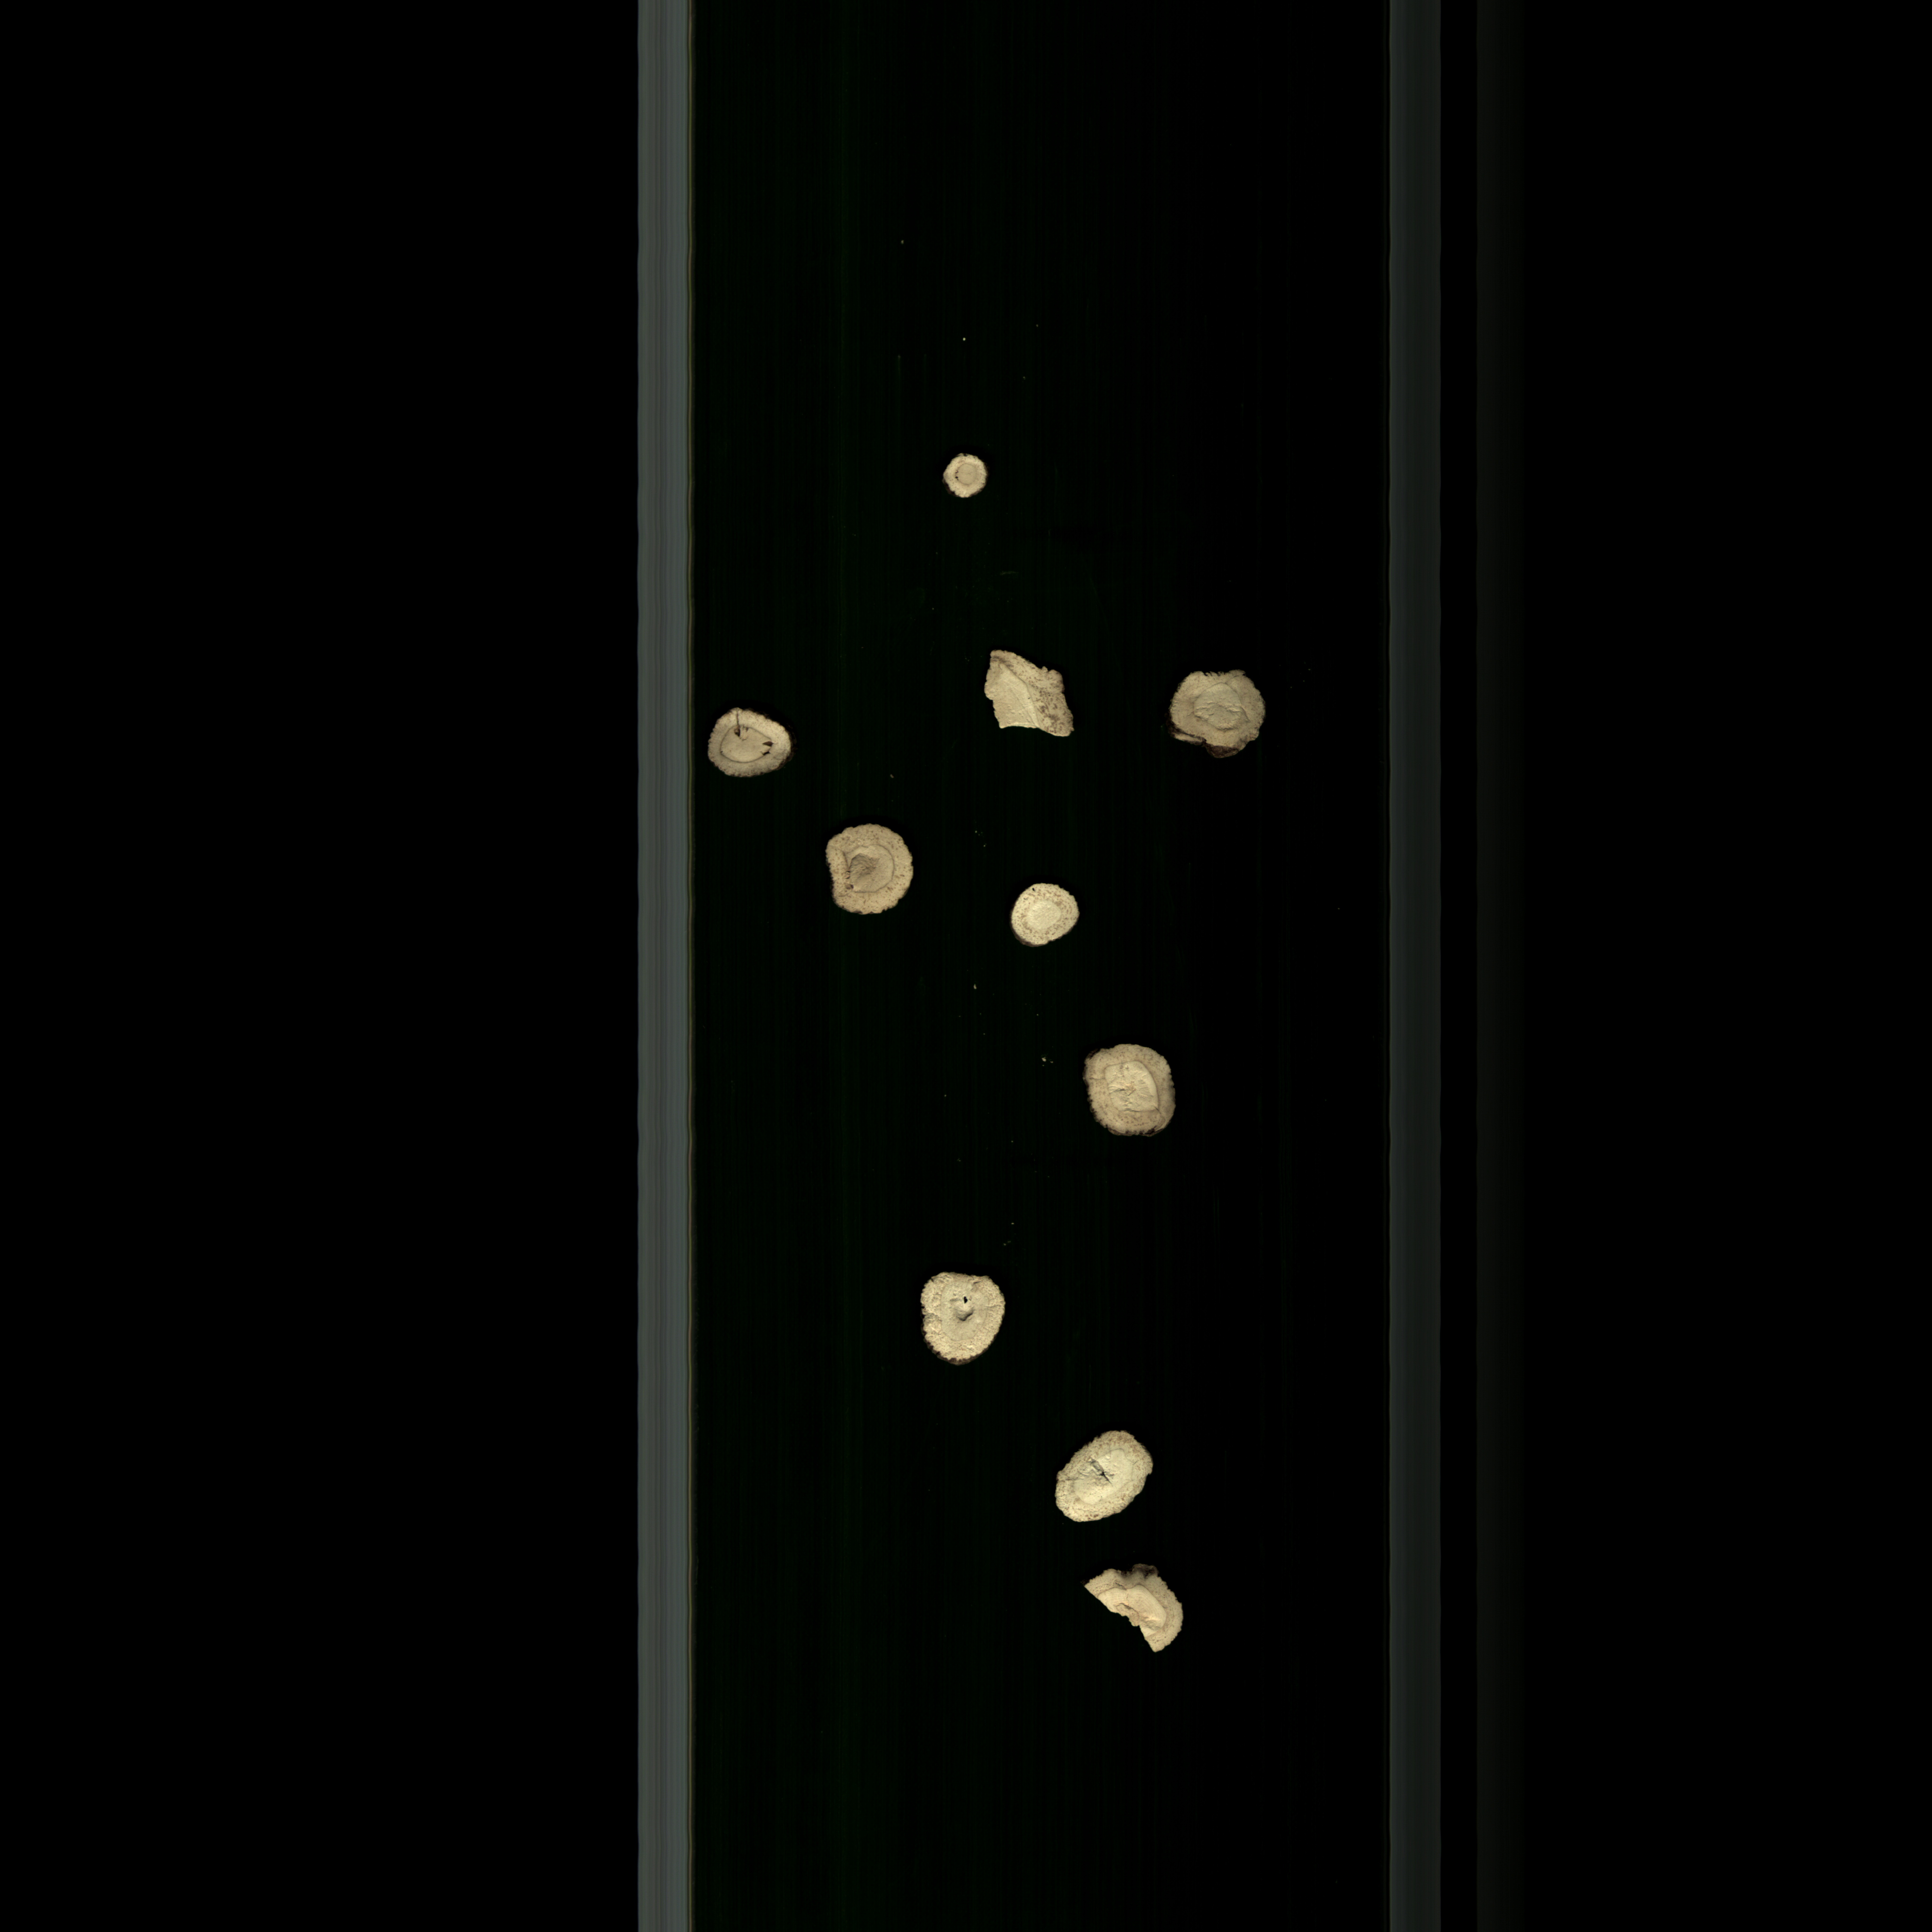debris: (1162, 658, 1284, 773), (1074, 1559, 1198, 1663), (978, 642, 1088, 750)
hole: (1039, 1424, 1162, 1532), (906, 1263, 1017, 1371), (694, 704, 807, 791), (936, 449, 994, 504)
